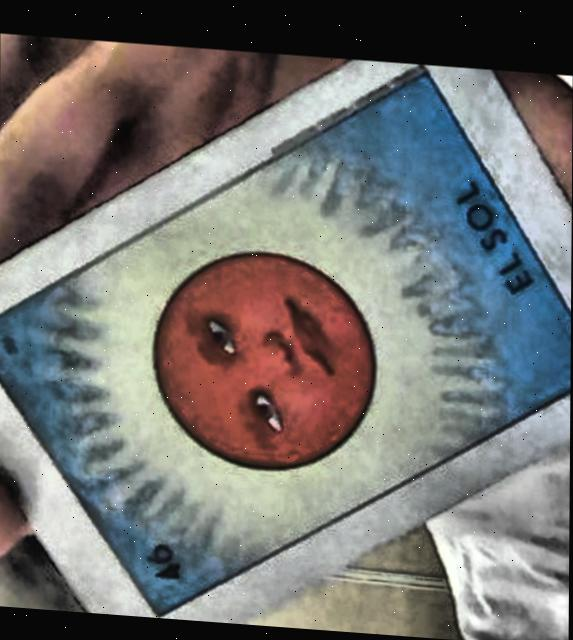El Sol: (0, 67, 571, 611)
